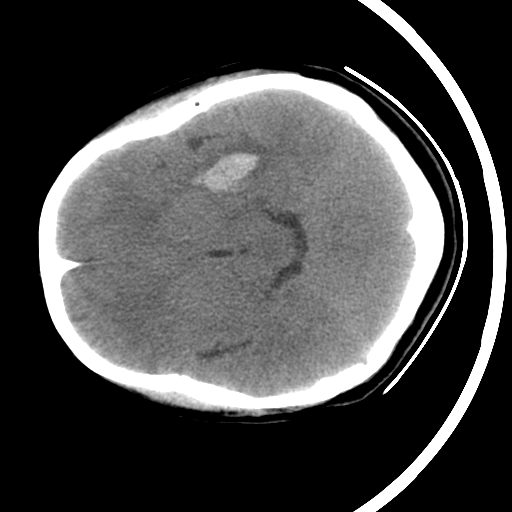a: (168, 123, 280, 210)
